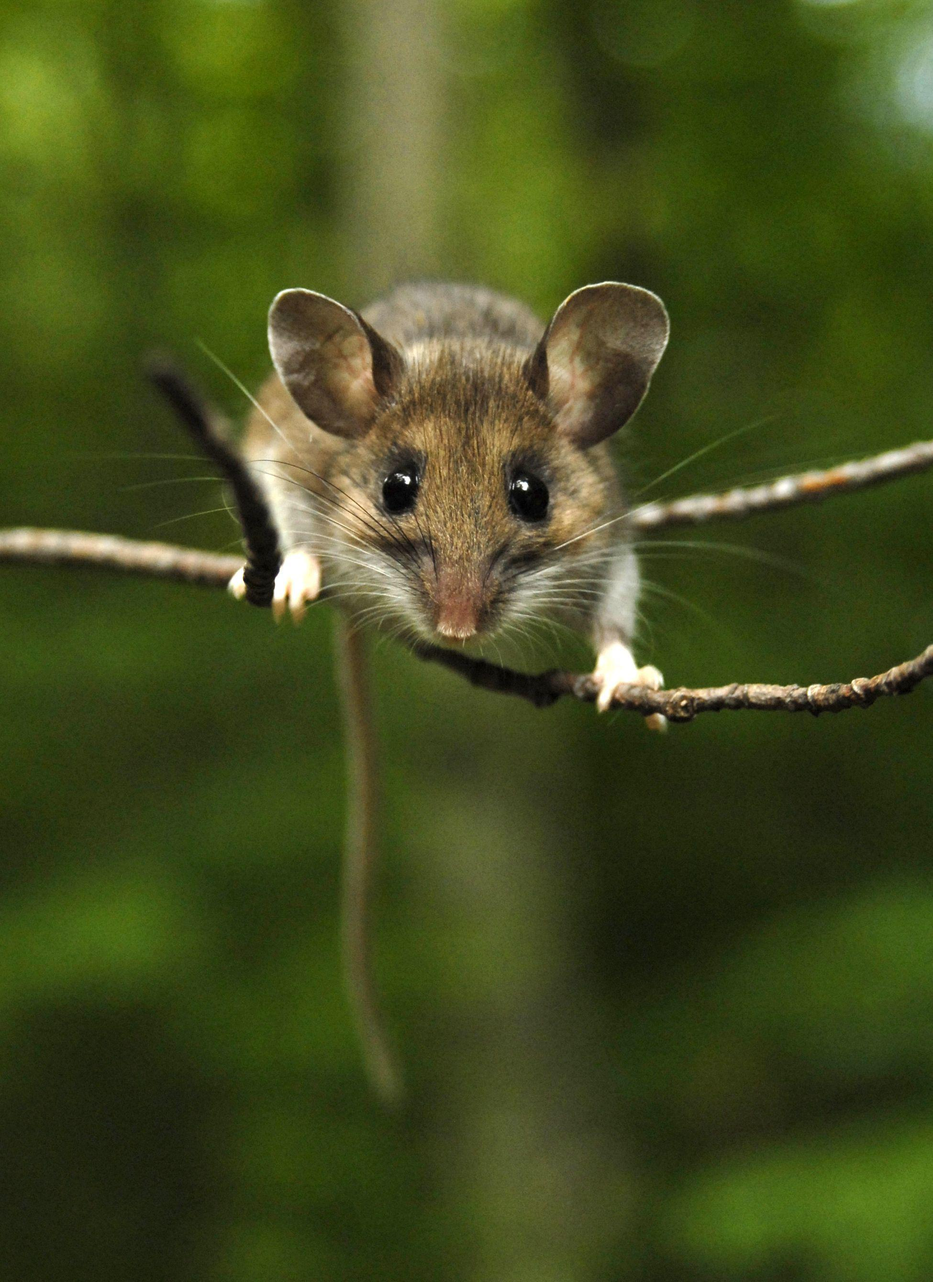rat: (250, 278, 672, 713)
